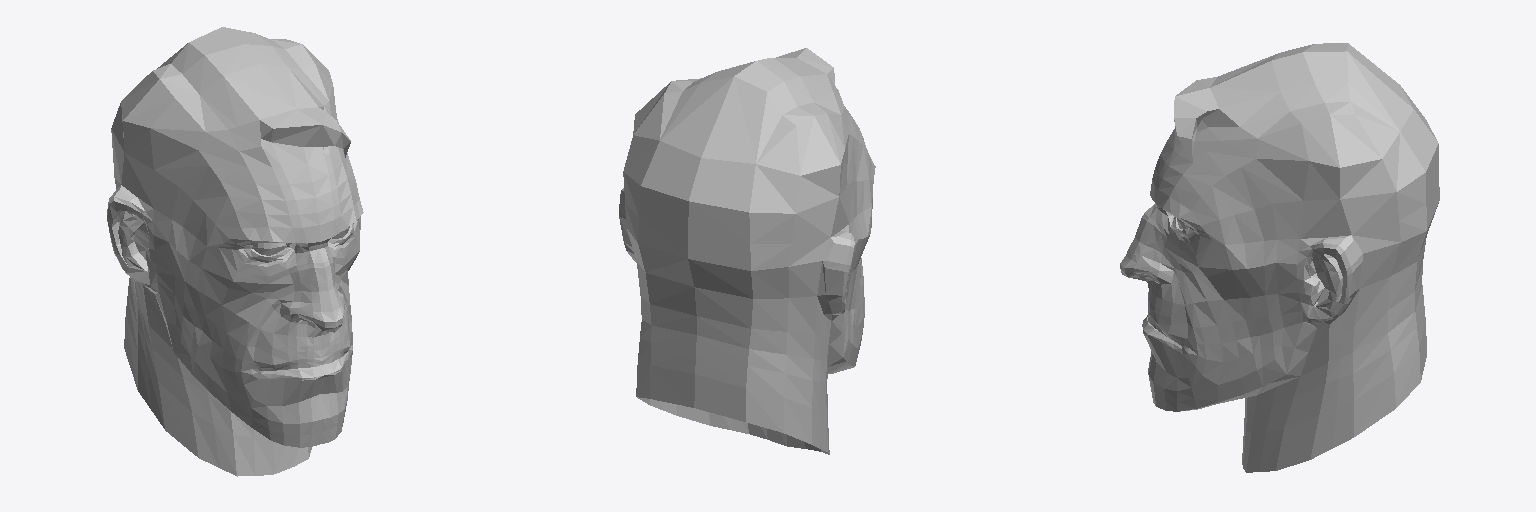
Rendered from medic.obj.
The picture shows the model from 3 angles: view 1: azimuth 30°, elevation 25°; view 2: azimuth 150°, elevation 25°; view 3: azimuth 270°, elevation 25°; orthographic projection.
Parts seen in each view (by area): view 1: medic group1; view 2: medic group1; view 3: medic group1.
Part boxes in pixels (x1,y1,x2,y2): medic group1: (107,27,363,476); medic group1: (619,48,875,454); medic group1: (1120,43,1439,472).
Bounding box in the file's own units: 7.27 × 12.18 × 8.62.